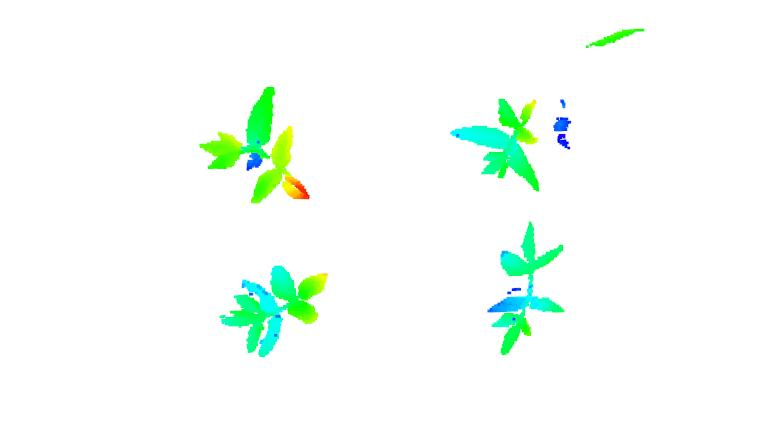mungbean: (194, 86, 323, 206), (216, 264, 330, 360), (486, 218, 565, 356), (445, 91, 543, 196)
